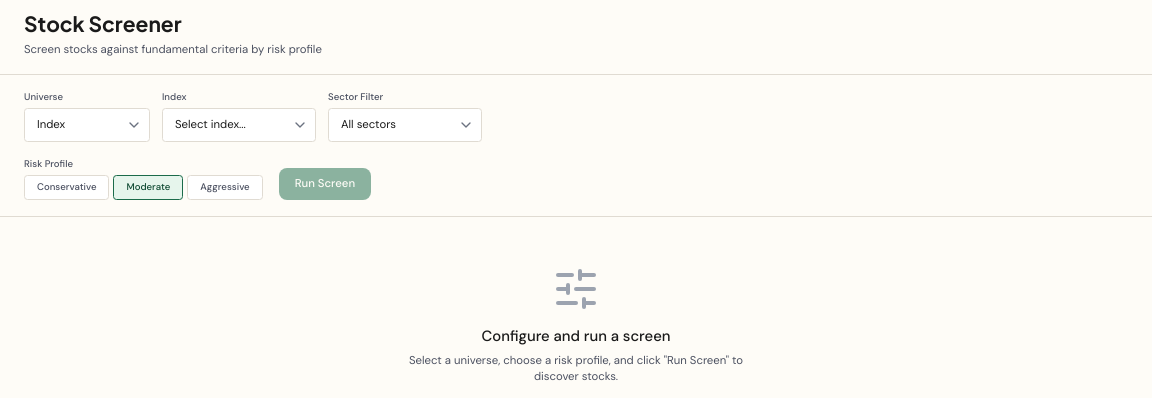
Test: ScreenerPage › shows error state
Select "IDX30" in the dropdown labelled "Index". click: point(239, 125)
box: [162,108,316,142]
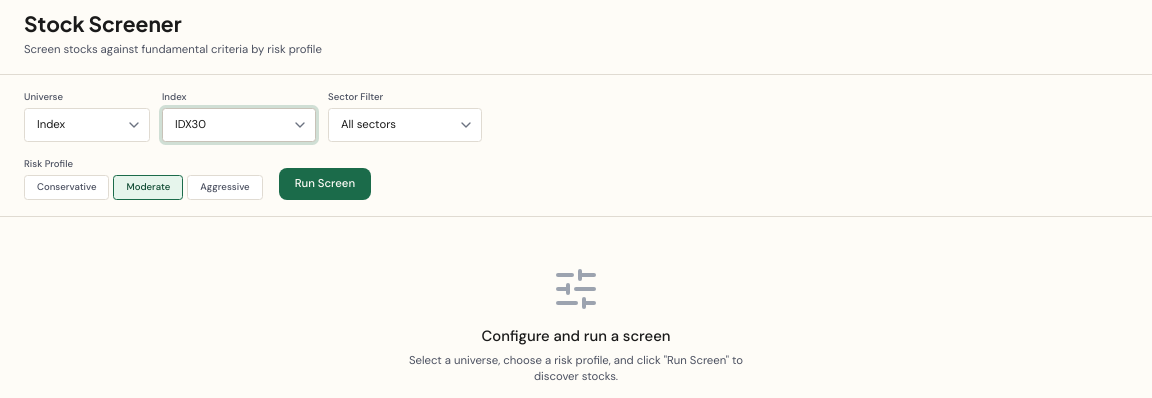
Click the button "Run Screen". click: point(325, 184)
box: [279,168,371,200]
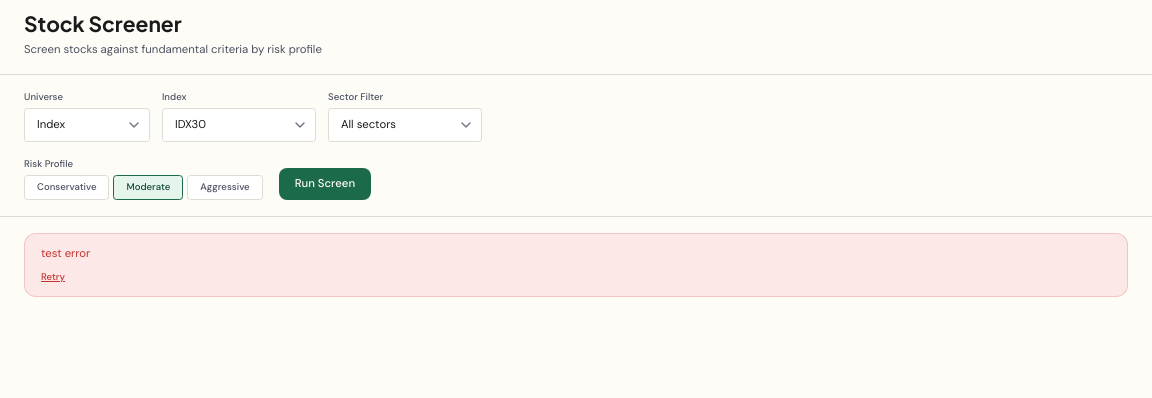
Now the text "test error" is shown, box [41,246,90,262]
